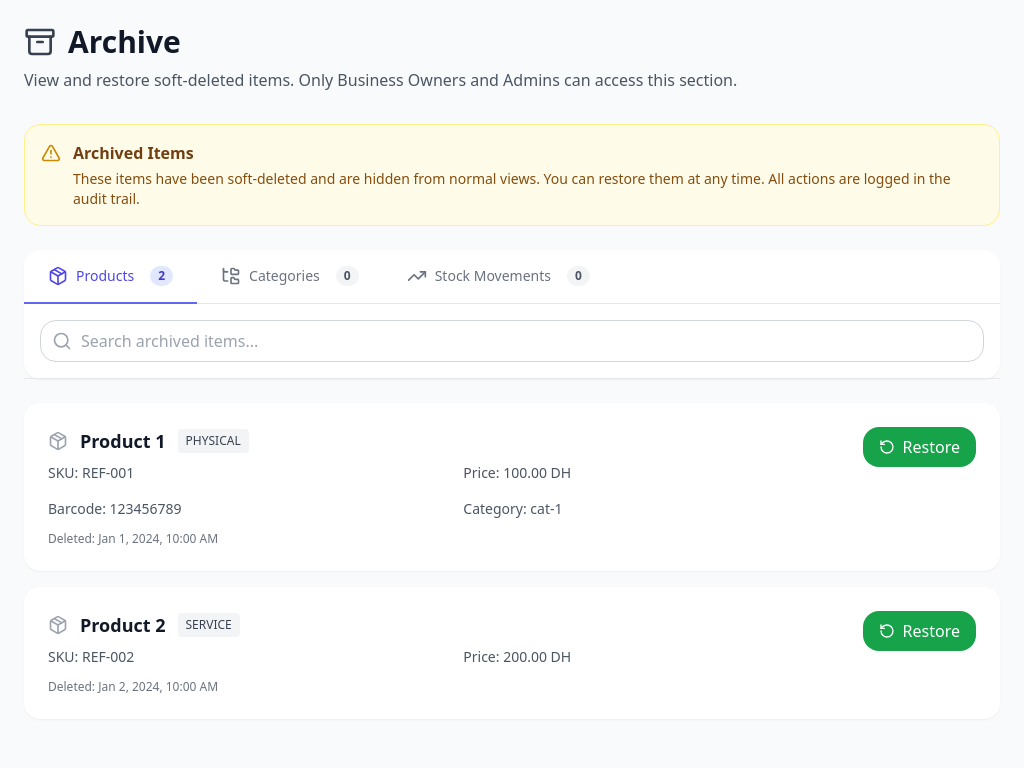
it: Archive › Search Functionality › should filter products by name
This screenshot has width=1024, height=768.
Expected: the heading "Product 1" is shown, [80,427,166,455]
Expected: the heading "Product 2" is shown, [80,611,166,639]
In the field with placeholder "Search archived items...": coordinates (512, 341) [40,320,984,362], type "Product 1"
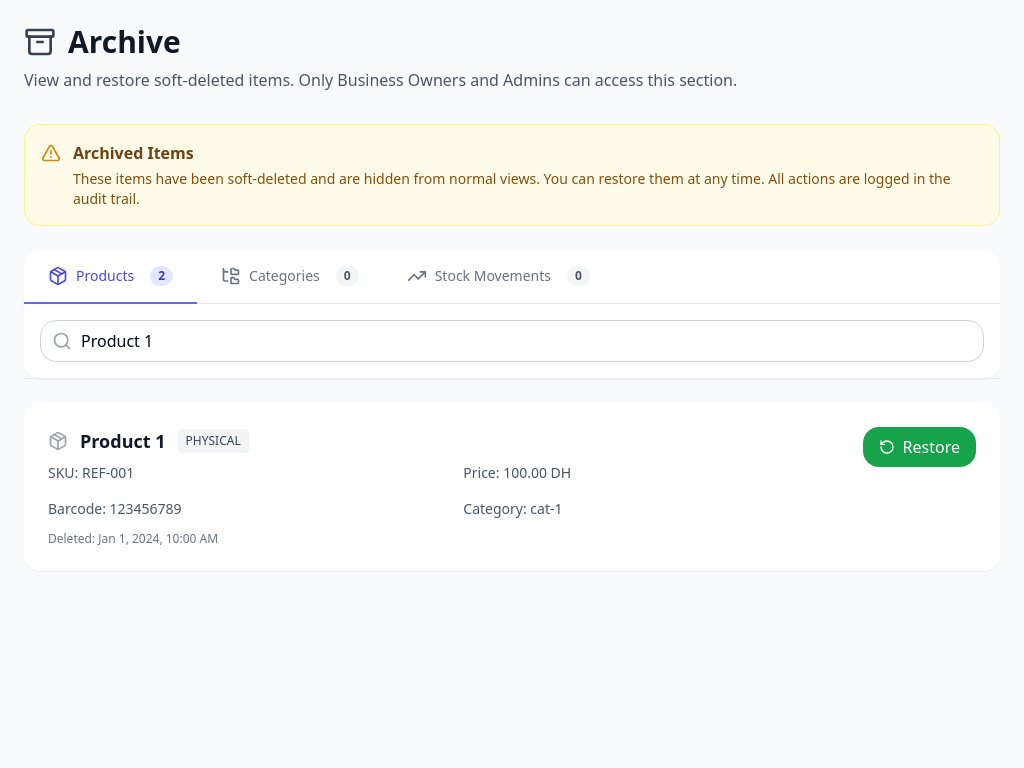
Expected: the heading "Product 1" is shown, [80,427,166,455]
Expected: the heading "Product 2" is gone
